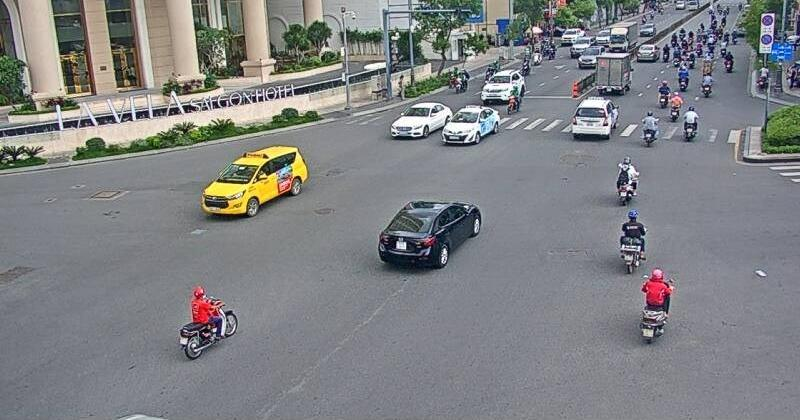xe hoi: (199, 142, 306, 219), (378, 198, 483, 270), (389, 99, 452, 137), (443, 103, 499, 144), (571, 93, 618, 138)
xe may: (177, 284, 236, 360), (618, 207, 647, 276), (612, 158, 639, 204)
